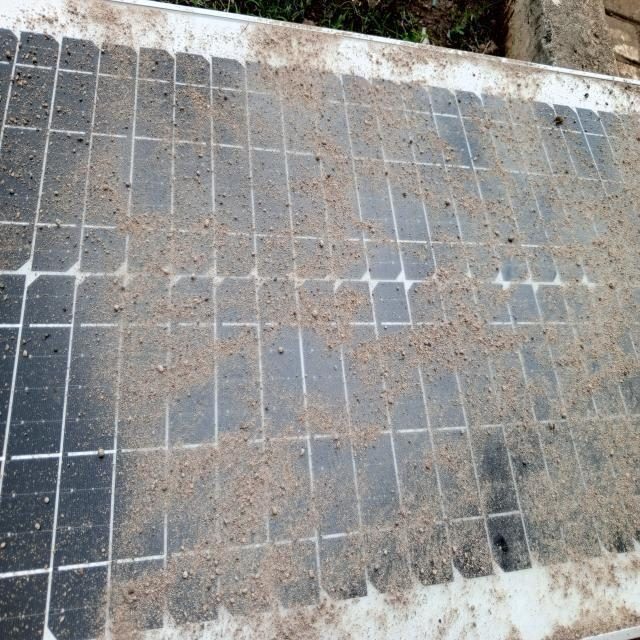Anomaly Solar Panel: (7, 41, 639, 639)
Surface Contaminant: (7, 41, 639, 639)
